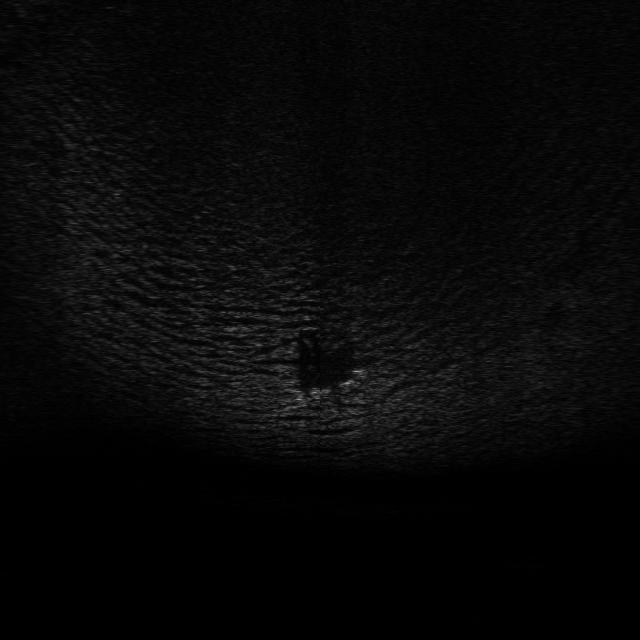plane: (286, 375, 354, 408)
